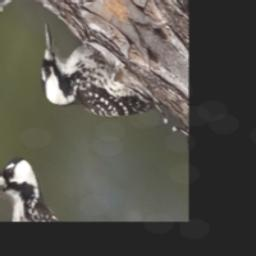Woodpecker: (22, 0, 159, 179)
